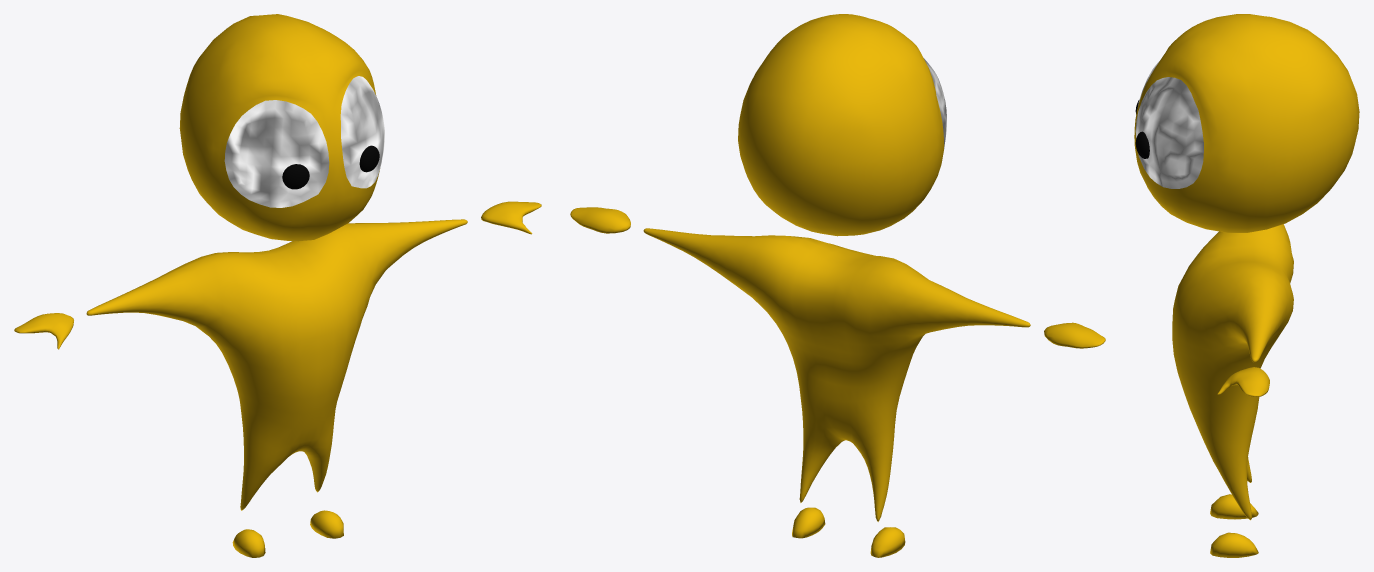
Rendered from Mascot2.glb.
3 views of the same model, side by side, from view 1: azimuth 30°, elevation 25°; view 2: azimuth 150°, elevation 25°; view 3: azimuth 270°, elevation 25° (orthographic).
Parts seen in each view (by area): view 1: MascotBodyGeo, MascotHeadGeo, MascotEyesGeo; view 2: MascotBodyGeo, MascotHeadGeo; view 3: MascotHeadGeo, MascotBodyGeo, MascotEyesGeo.
Boxes of the visible parts, x1,y1,x2,y2 form: MascotBodyGeo: (14, 201, 541, 557); MascotHeadGeo: (179, 14, 384, 241); MascotEyesGeo: (282, 145, 379, 189); MascotBodyGeo: (570, 207, 1105, 557); MascotHeadGeo: (738, 14, 946, 236); MascotHeadGeo: (1134, 14, 1359, 232); MascotBodyGeo: (1172, 224, 1293, 557); MascotEyesGeo: (1135, 100, 1149, 158).
Size of the model in its own units: 225 by 210 by 83.55.
